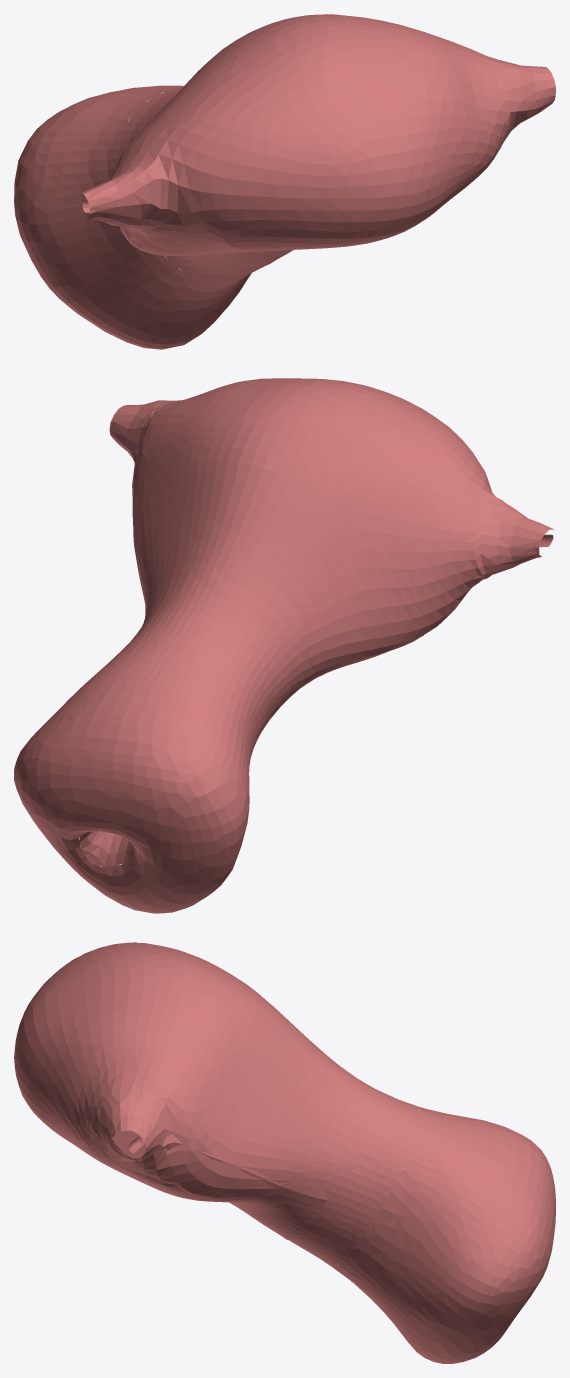
The model's file is VH_F_Uterus_0.4.glb.
3 views of the same model, one above another, from view 1: azimuth 30°, elevation 25°; view 2: azimuth 150°, elevation 25°; view 3: azimuth 270°, elevation 25° (orthographic). The views are drawn at different scales.
Visible parts, largest first — view 1: VH_F_fundus_of_uterus, VH_F_cervix, VH_F_cornua, VH_F_posterior_wall_of_uterus, VH_F_lower_uterine_segment, VH_F_body_of_uterus; view 2: VH_F_body_of_uterus, VH_F_cervix, VH_F_fundus_of_uterus, VH_F_lower_uterine_segment, VH_F_cornua, VH_F_external_cervical_os; view 3: VH_F_cervix, VH_F_body_of_uterus, VH_F_fundus_of_uterus, VH_F_lower_uterine_segment, VH_F_posterior_wall_of_uterus, VH_F_cornua, VH_F_anterior_wall_of_uterus.
Boxes of the visible parts, box(x1,y1,x2,y2) form: VH_F_fundus_of_uterus: box(132, 14, 516, 248); VH_F_cervix: box(14, 85, 251, 349); VH_F_cornua: box(81, 58, 555, 227); VH_F_posterior_wall_of_uterus: box(140, 146, 501, 269); VH_F_lower_uterine_segment: box(119, 87, 262, 285); VH_F_body_of_uterus: box(114, 18, 511, 268); VH_F_body_of_uterus: box(132, 421, 486, 694); VH_F_cervix: box(14, 642, 261, 913); VH_F_fundus_of_uterus: box(142, 378, 495, 513); VH_F_lower_uterine_segment: box(124, 600, 296, 737); VH_F_cornua: box(109, 400, 553, 578); VH_F_external_cervical_os: box(79, 831, 136, 866); VH_F_cervix: box(332, 1106, 555, 1363); VH_F_body_of_uterus: box(112, 962, 366, 1213); VH_F_fundus_of_uterus: box(14, 942, 217, 1163); VH_F_lower_uterine_segment: box(289, 1083, 419, 1267); VH_F_posterior_wall_of_uterus: box(42, 1121, 326, 1239); VH_F_cornua: box(95, 942, 164, 1165); VH_F_anterior_wall_of_uterus: box(100, 1095, 328, 1200).
Size of the model in its own units: 0.0525 by 0.047 by 0.0587.
